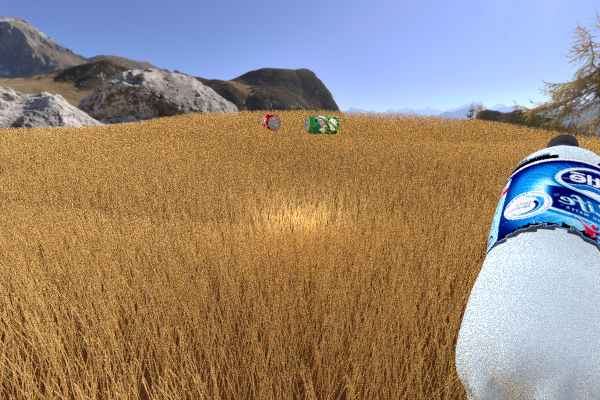Plastic Bottle: (455, 134, 600, 400), (304, 115, 339, 134), (261, 113, 280, 130)
